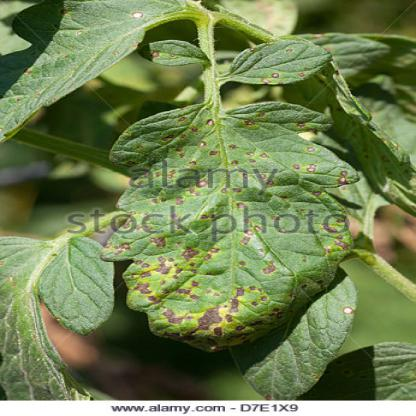tomato septoria leaf spot: (103, 99, 376, 357)
